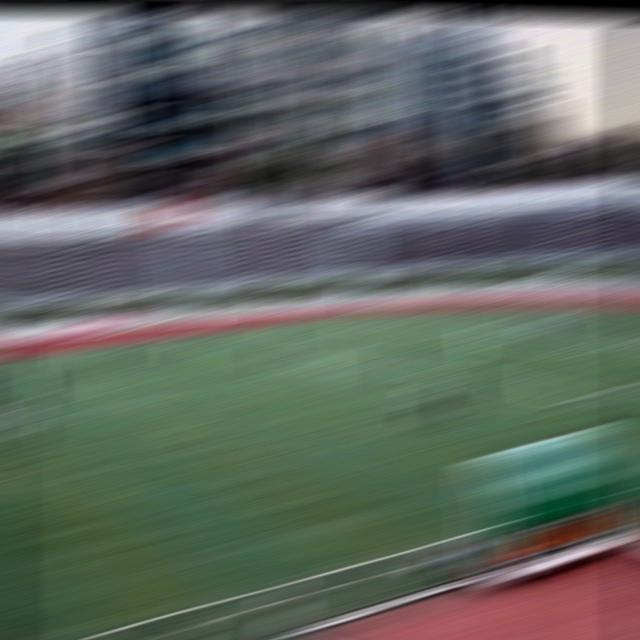bigarea_bottom_inner: (558, 384, 593, 408)
bigarea_top_outter: (401, 315, 430, 324)
bottom_arc_area_intersection: (427, 365, 456, 372)
corner: (342, 313, 369, 316)
smallarea_bottom_inner: (572, 346, 600, 355)
smallarea_bottom_outter: (621, 336, 640, 344)
smallarea_top_inner: (426, 329, 454, 337)
smallarea_top_outter: (471, 321, 501, 328)
top_arc_area_intersection: (326, 348, 356, 354)
